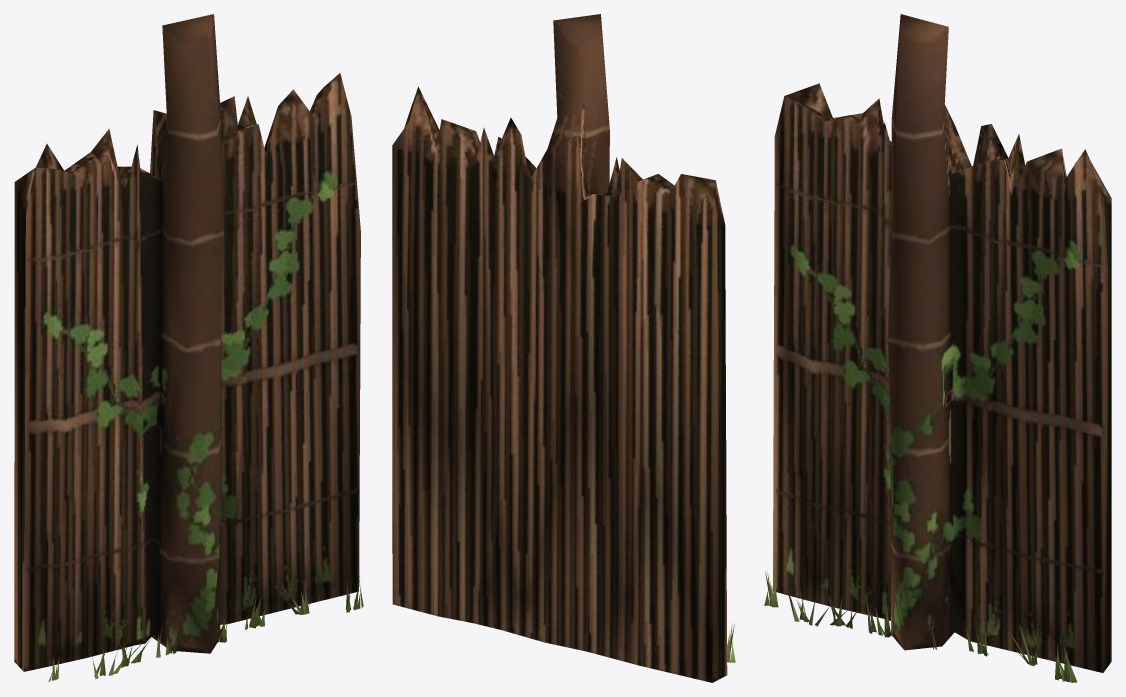
The model's file is fence_reed_ivy_far.glb.
The picture shows the model from 3 angles, left to right: view 1: azimuth 30°, elevation 25°; view 2: azimuth 150°, elevation 25°; view 3: azimuth 330°, elevation 25°; orthographic projection.
Parts seen in each view (by area): view 1: fence_reed_ivy_lod1; view 2: fence_reed_ivy_lod1; view 3: fence_reed_ivy_lod1.
Part boxes in pixels (bbox=[...]): fence_reed_ivy_lod1: bbox=[14, 14, 363, 681]; fence_reed_ivy_lod1: bbox=[392, 14, 735, 682]; fence_reed_ivy_lod1: bbox=[764, 14, 1111, 682].
Size of the model in its own units: 0.9921 by 1.75 by 0.2025.
1 material, 1 textured.
